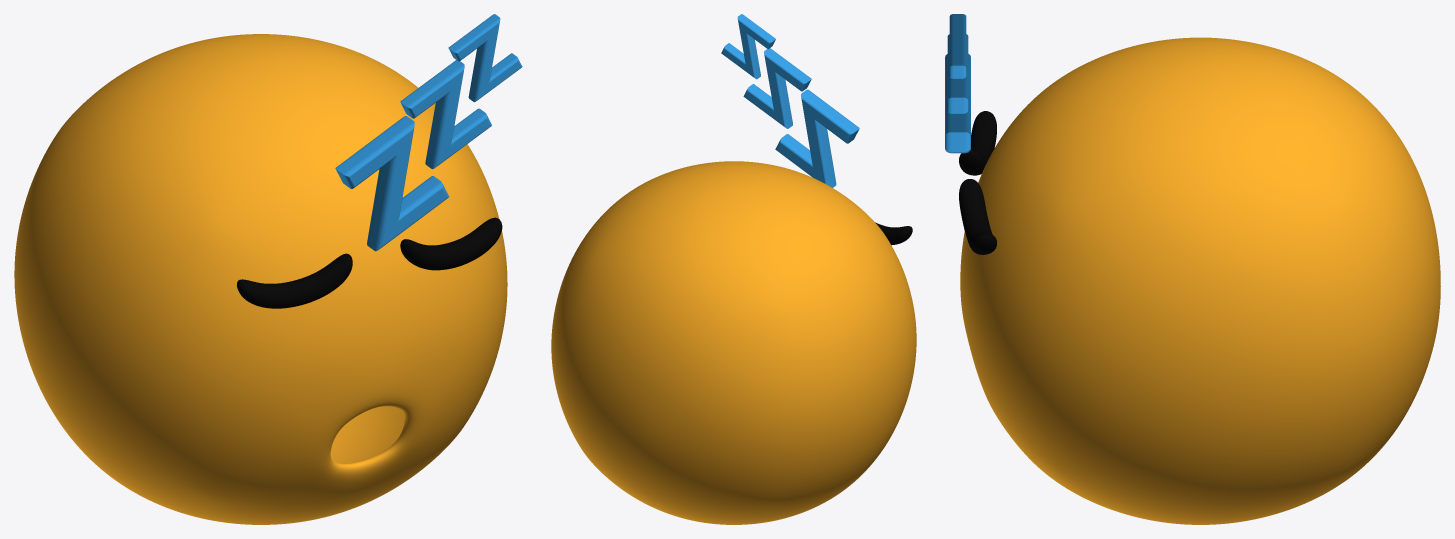
The model's file is Sleeping.glb.
3 renders of one model, left to right at view 1: azimuth 30°, elevation 25°; view 2: azimuth 150°, elevation 25°; view 3: azimuth 270°, elevation 25°, orthographic. The views are drawn at different scales.
Parts seen in each view (by area): view 1: Cube.001_Cube, Text.002_Text.004, Cube.002_Cube.008; view 2: Cube.001_Cube, Text.002_Text.004, Cube.002_Cube.008; view 3: Cube.001_Cube, Cube.002_Cube.008, Text.002_Text.004.
Boxes of the visible parts, x1=… form: Cube.001_Cube: x1=14, y1=34, x2=507, y2=524; Text.002_Text.004: x1=335, y1=14, x2=522, y2=251; Cube.002_Cube.008: x1=237, y1=217, x2=502, y2=308; Cube.001_Cube: x1=551, y1=161, x2=916, y2=524; Text.002_Text.004: x1=721, y1=14, x2=859, y2=187; Cube.002_Cube.008: x1=875, y1=222, x2=912, y2=245; Cube.001_Cube: x1=960, y1=37, x2=1440, y2=524; Cube.002_Cube.008: x1=959, y1=111, x2=996, y2=254; Text.002_Text.004: x1=945, y1=14, x2=970, y2=153.
Bounding box in the file's own units: 1.66 × 2.06 × 1.71.
